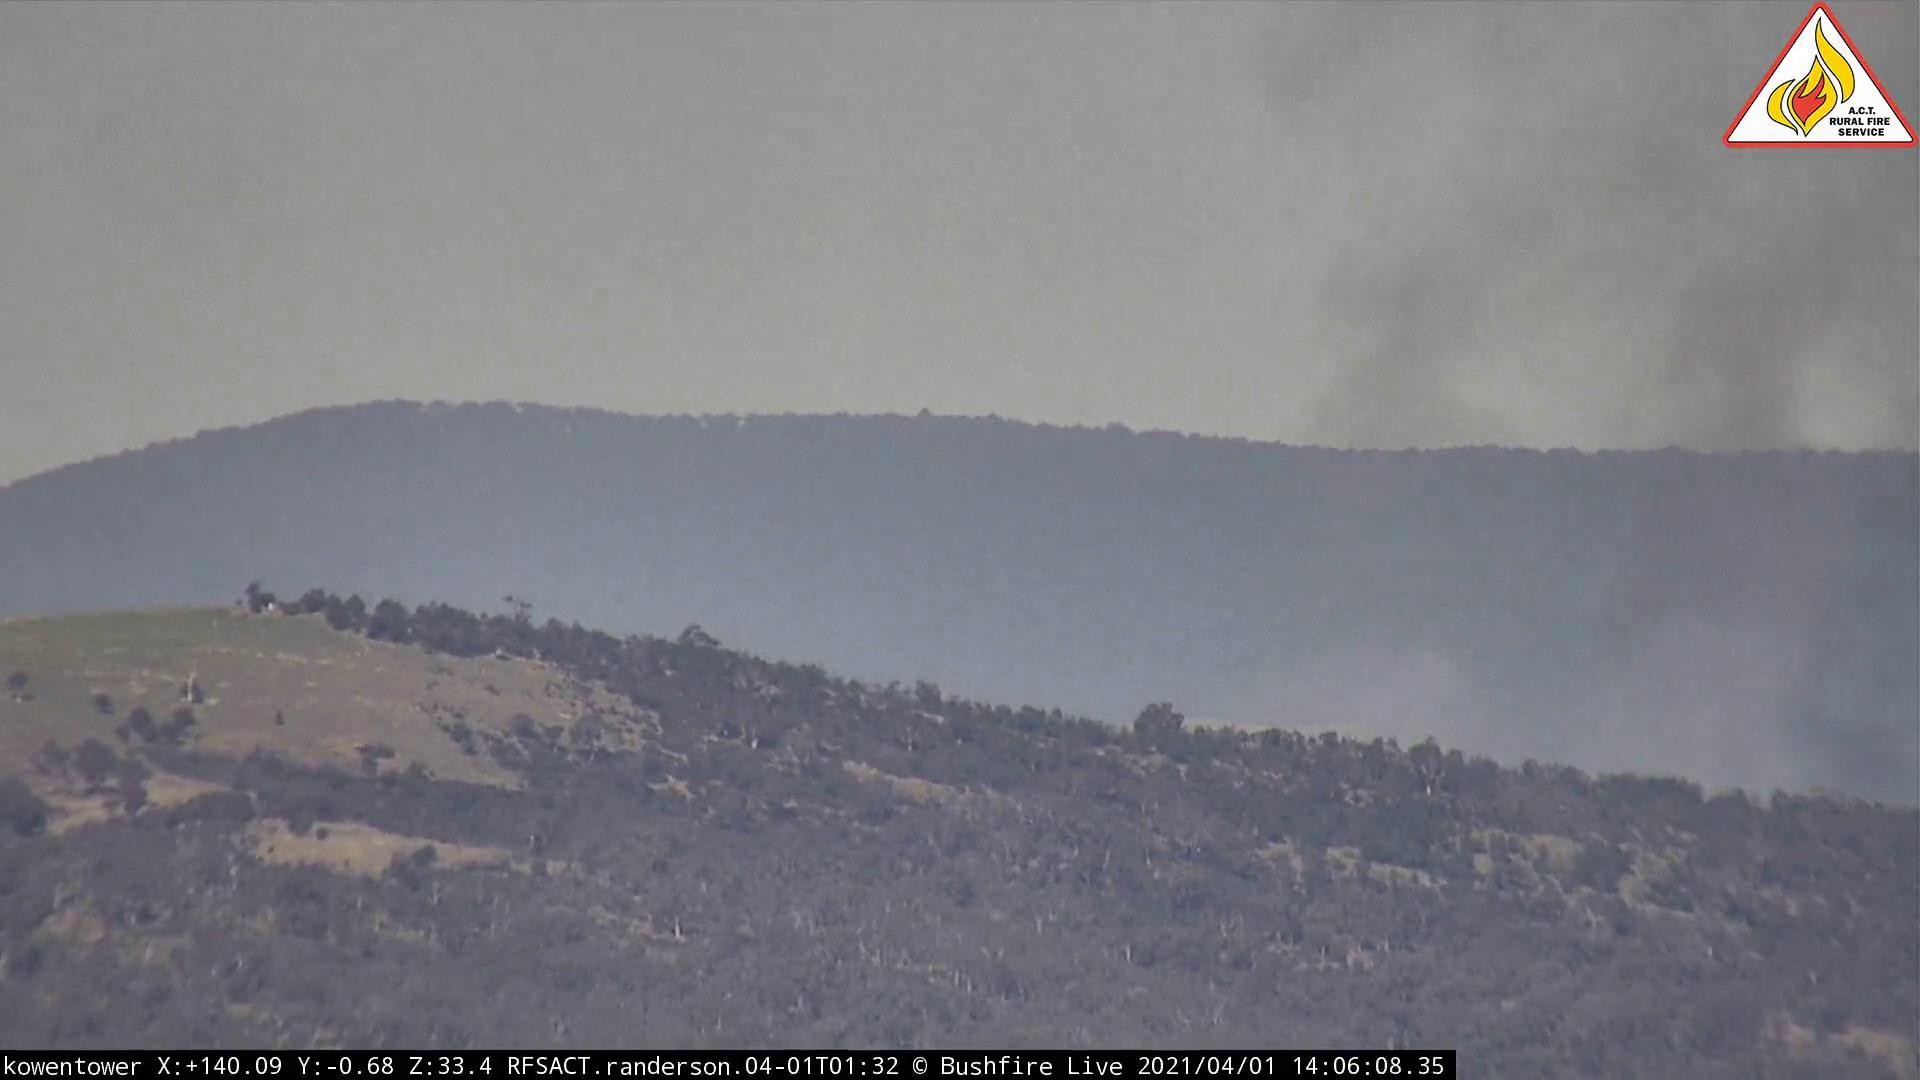instance_salient_object: (1217, 160, 1920, 840)
